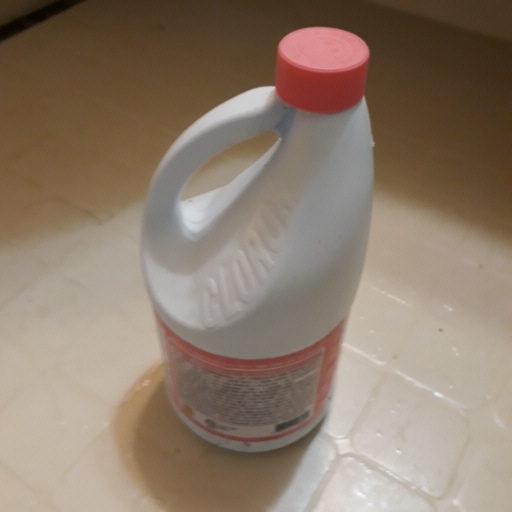Plastic_1: (139, 25, 377, 455)
